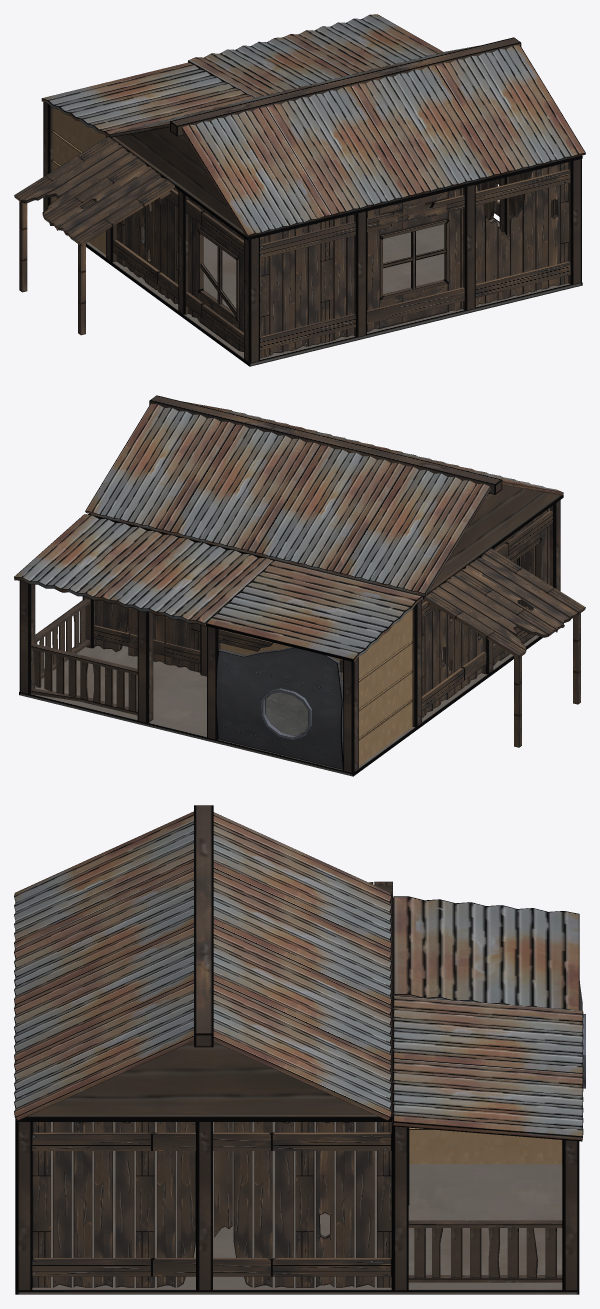
File: residence_01.fbx
3 views of the same model, one above another, from view 1: azimuth 30°, elevation 25°; view 2: azimuth 150°, elevation 25°; view 3: azimuth 270°, elevation 25° (orthographic). The views are drawn at different scales.
Visible parts, largest first — view 1: residence_01; view 2: residence_01; view 3: residence_01.
Part boxes in pixels (x1=…): residence_01: x1=14, y1=14, x2=585, y2=366; residence_01: x1=14, y1=395, x2=585, y2=776; residence_01: x1=14, y1=805, x2=585, y2=1294.
Size of the model in its own units: 965 by 411 by 805.
Materials: 1 (1 with a texture image).
